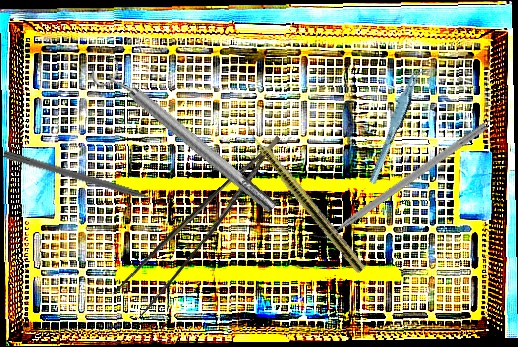Chopper: (307, 113, 488, 248)
Fixation Ring: (87, 50, 284, 223)
Handpiece: (236, 117, 369, 275)
Pusher: (2, 149, 172, 211)
Tissue Forceps: (104, 135, 307, 323), (356, 63, 437, 185)
